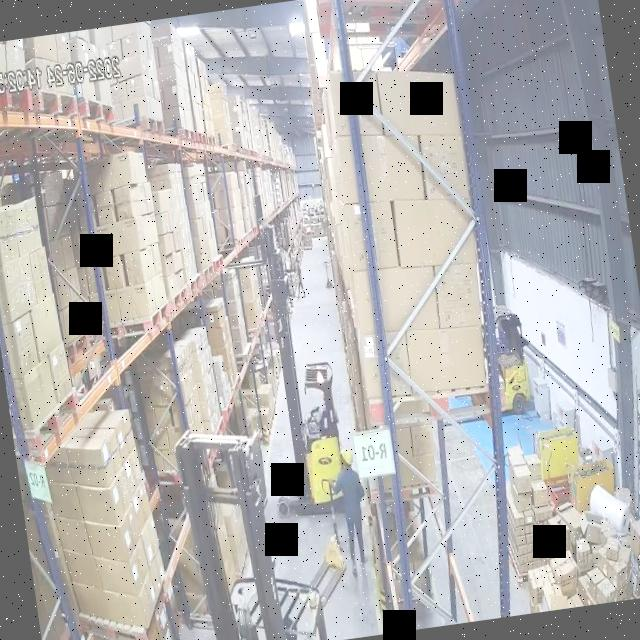box: (333, 131, 426, 206), (355, 267, 443, 338), (391, 201, 483, 265), (404, 329, 488, 395), (377, 74, 461, 135), (319, 68, 387, 142), (0, 192, 46, 266), (419, 138, 475, 198), (14, 356, 57, 428), (66, 431, 121, 487), (95, 538, 149, 593), (102, 571, 155, 627), (75, 474, 129, 527), (85, 507, 139, 558), (380, 455, 441, 496), (0, 254, 33, 321), (29, 291, 62, 358), (10, 313, 39, 377), (46, 340, 73, 396), (544, 510, 575, 557), (29, 246, 55, 301), (98, 152, 134, 190), (105, 219, 141, 255), (117, 285, 150, 322), (550, 550, 581, 586), (590, 566, 618, 604), (90, 292, 119, 326), (410, 422, 437, 456), (580, 514, 609, 544), (104, 256, 125, 291), (189, 326, 210, 358), (96, 190, 115, 224), (120, 97, 148, 120), (114, 189, 134, 221), (510, 466, 531, 496), (126, 254, 144, 288), (530, 480, 551, 508), (189, 184, 207, 216), (119, 54, 142, 79), (151, 162, 182, 180), (124, 74, 146, 99), (156, 62, 177, 87), (149, 22, 174, 42), (154, 189, 173, 215), (205, 302, 224, 327), (120, 35, 140, 58), (109, 81, 128, 105), (527, 453, 544, 479), (195, 229, 212, 254), (163, 107, 183, 128), (604, 537, 623, 559), (162, 85, 179, 109), (208, 327, 226, 348), (212, 347, 230, 368), (156, 43, 173, 65), (258, 383, 273, 406), (155, 428, 170, 451), (211, 98, 230, 116), (208, 83, 228, 100), (166, 427, 182, 448), (148, 383, 162, 406), (185, 163, 205, 179), (215, 128, 235, 143), (156, 408, 172, 426), (172, 382, 187, 401), (258, 408, 272, 428), (160, 385, 173, 405), (213, 116, 231, 130), (194, 217, 208, 235), (242, 288, 254, 305), (249, 373, 261, 389), (241, 273, 252, 289)
